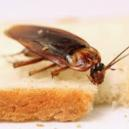cockroach: (5, 23, 106, 86)
